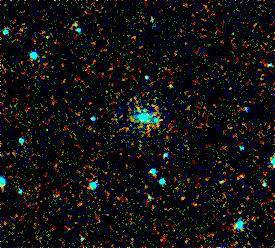star: (155, 72, 185, 102)
